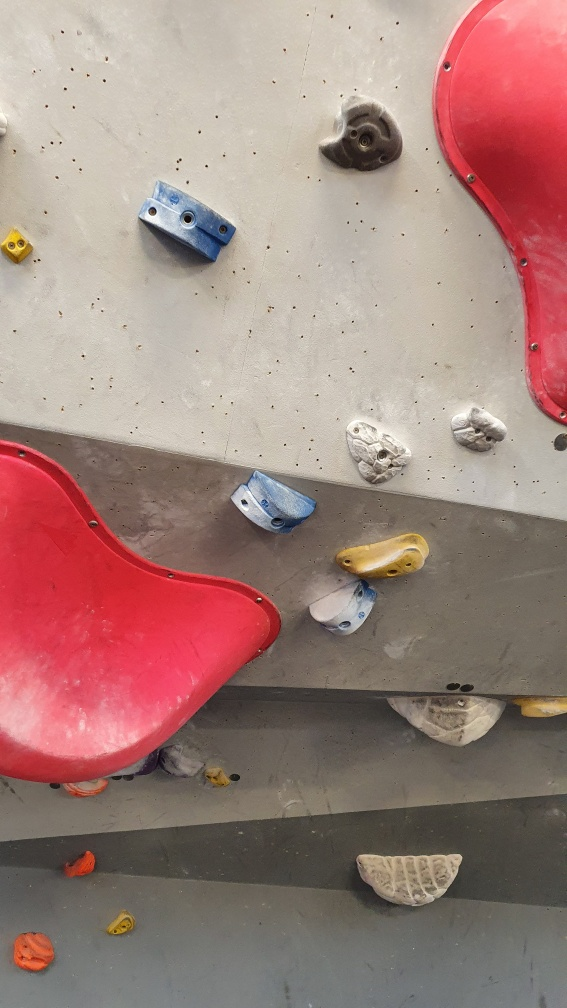Hand Start: (552, 430, 567, 454), (443, 678, 459, 693), (228, 770, 243, 784), (462, 680, 474, 695)
Jug: (318, 93, 410, 178), (341, 411, 412, 486), (449, 402, 513, 457)
Pinch: (133, 176, 238, 266), (226, 464, 322, 537), (306, 579, 385, 639), (2, 222, 39, 266)
